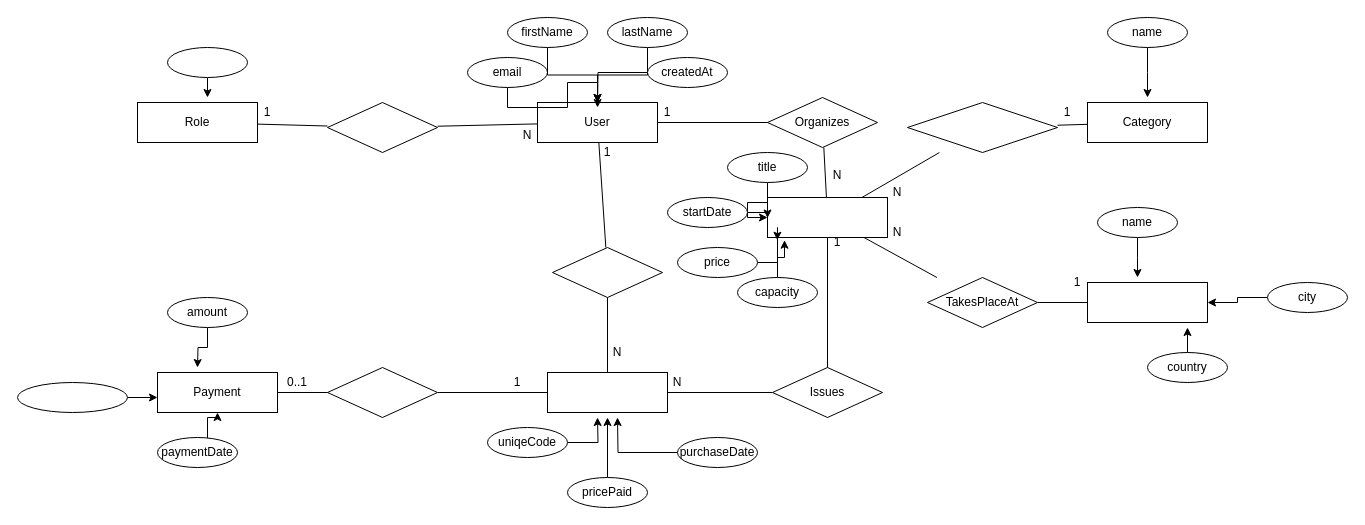
The diagram is 1365 pixels wide and 525 high, and some of its shapes have lost their labels. Each missing label, with the box of its shape:
BelongsToCategory: (906, 102, 1058, 152)
Buys: (552, 246, 662, 298)
Event: (766, 196, 888, 238)
HasRole: (326, 102, 438, 152)
IsPaidBy: (326, 366, 438, 418)
Location: (1086, 282, 1208, 322)
paymentMethod: (16, 382, 128, 412)
roleName: (166, 46, 248, 78)
Ticket: (546, 372, 668, 412)
